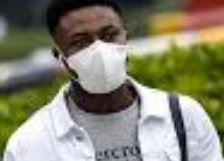with_facemask: (68, 48, 131, 92)
